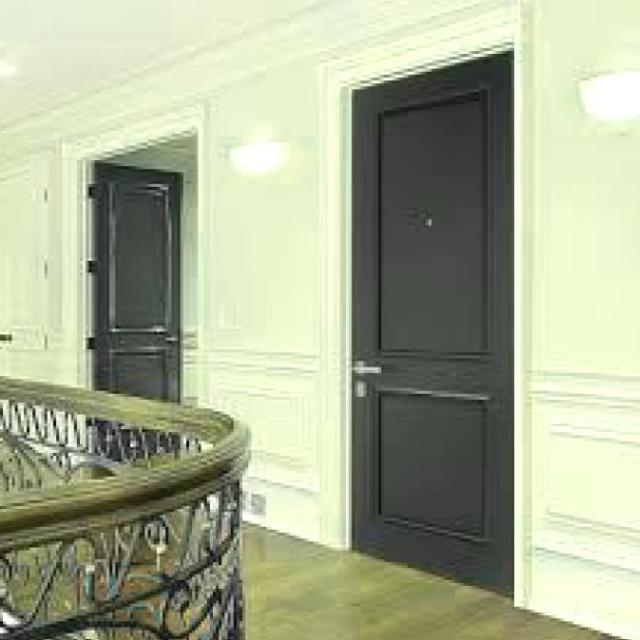door: (348, 49, 514, 597)
